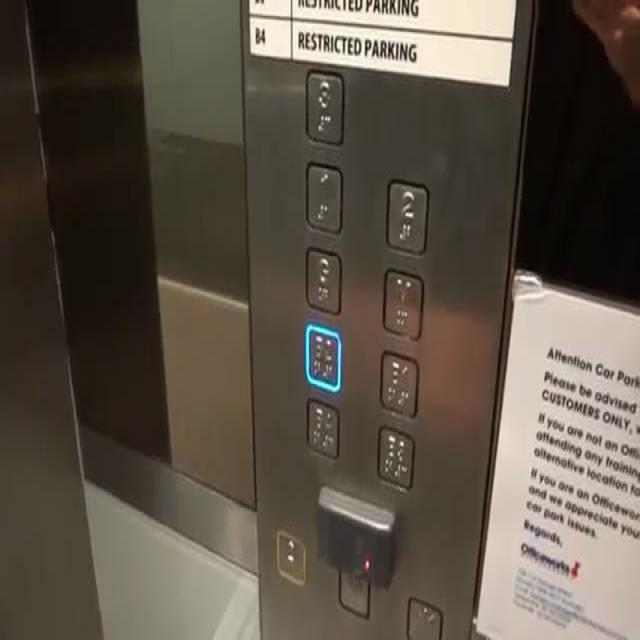1: (305, 159, 343, 233)
2: (384, 176, 429, 256), (276, 525, 306, 587)
3: (303, 66, 344, 146)
G: (304, 244, 342, 317)
M: (383, 267, 424, 340)
blur: (379, 346, 419, 418), (305, 321, 343, 395), (377, 421, 415, 492), (304, 395, 341, 460), (337, 568, 373, 619)
close: (404, 594, 444, 638)
